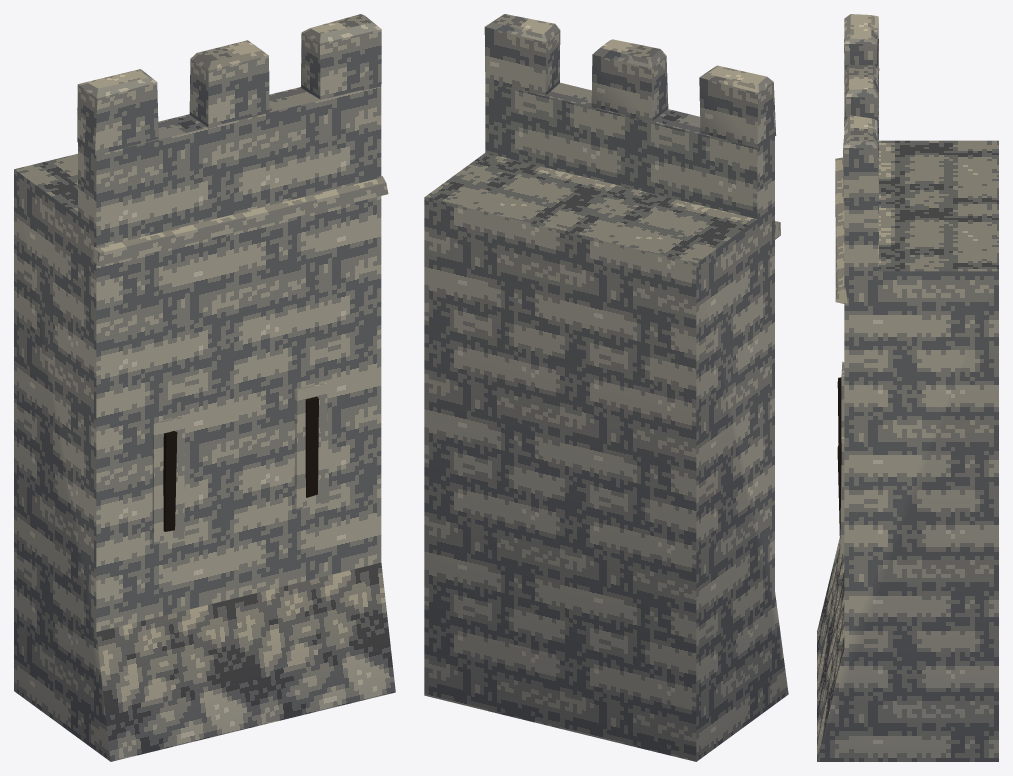
The model's file is cst.curtain__slits.glb.
The picture shows the model from 3 angles, left to right: view 1: azimuth 30°, elevation 25°; view 2: azimuth 150°, elevation 25°; view 3: azimuth 270°, elevation 25°; orthographic projection. The views are drawn at different scales.
Parts seen in each view (by area): view 1: kit_wall, kit_top, kit_detail; view 2: kit_wall, kit_top; view 3: kit_wall, kit_top, kit_detail.
Boxes of the visible parts, <box> form: kit_wall: <box>14,86,395,761</box>; kit_top: <box>77,14,381,155</box>; kit_detail: <box>93,176,388,544</box>; kit_wall: <box>424,82,788,761</box>; kit_top: <box>484,14,776,148</box>; kit_wall: <box>817,75,998,761</box>; kit_top: <box>843,14,879,201</box>; kit_detail: <box>835,157,847,554</box>.
Bounding box in the file's own units: 4.07 × 8.85 × 2.35.
5 materials, 5 textured.
